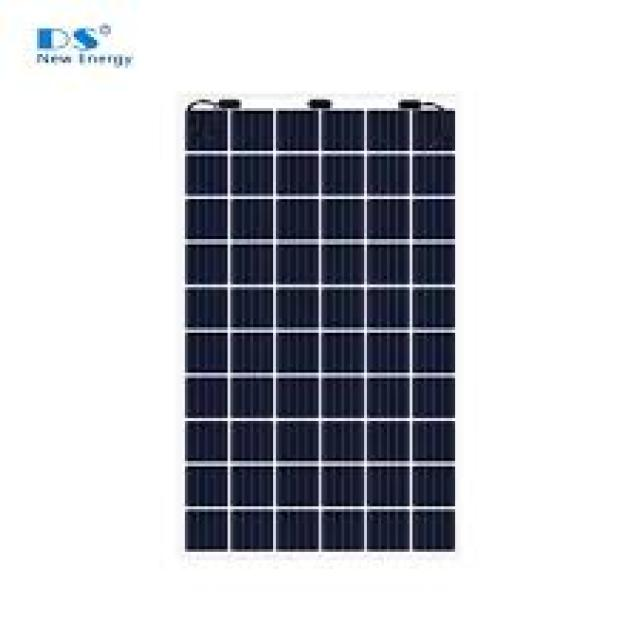Solar: (181, 89, 462, 562)
